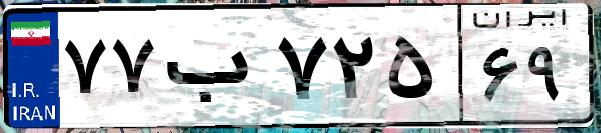2: (330, 28, 385, 110)
5: (385, 28, 445, 110)
6: (475, 38, 525, 113)
7: (270, 28, 330, 110), (57, 26, 110, 100), (110, 28, 158, 98)
9: (525, 38, 570, 115)
ب: (158, 20, 270, 120)
